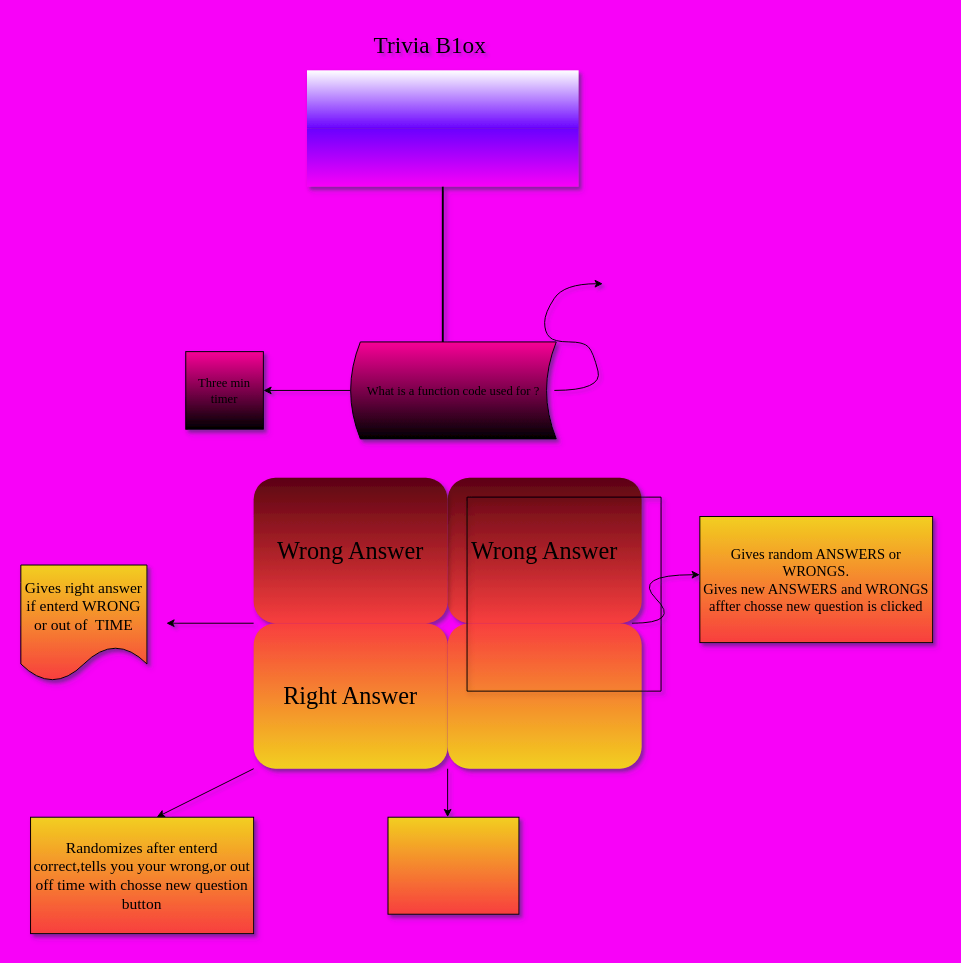
Some shapes in this 961 by 963 pixel diagram are drawn without their labels. The shapes that lost their labels are listed below. From the top down, each one's centre as x and y in pixels, then its label:
(443,100): Wellcome to Trivia B1ox!
(443,158): Press Enter to Start Your Endeavor
(545,697): Wrong Anwer
(454,866): Award points if right subtract if wrong
